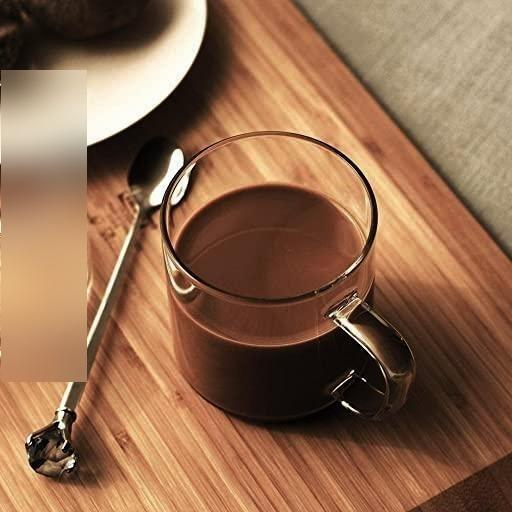glass-mug: (151, 126, 422, 439)
